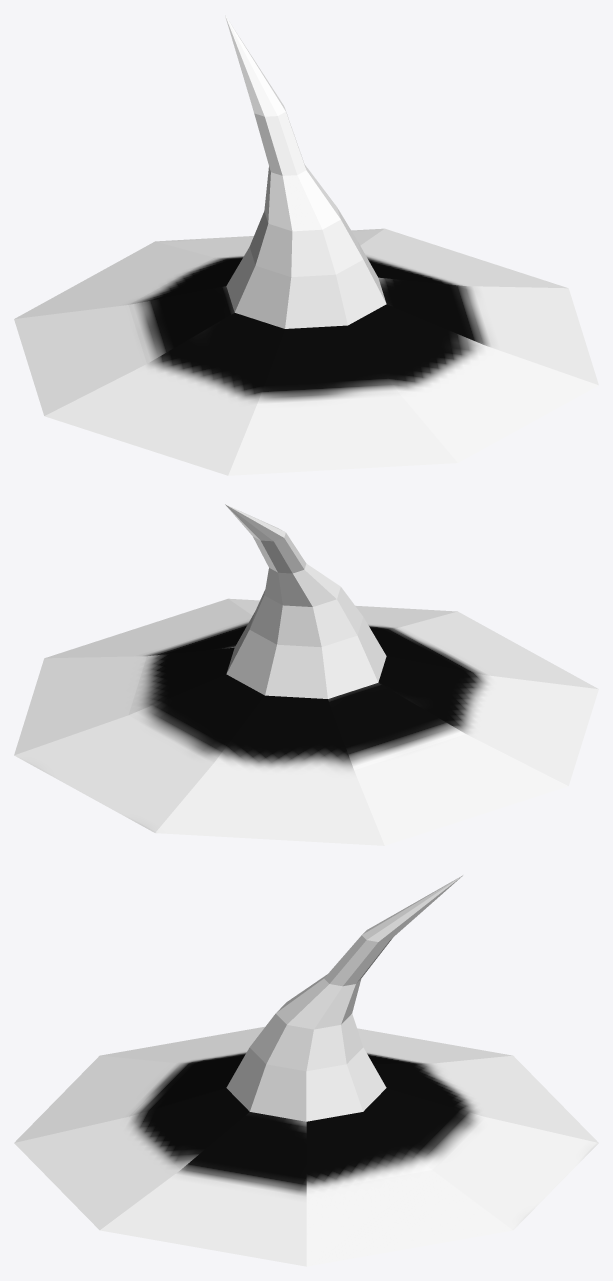
Rendered from Wizard_Hat.glb.
The picture shows the model from 3 angles, top to bottom: view 1: azimuth 30°, elevation 25°; view 2: azimuth 150°, elevation 25°; view 3: azimuth 270°, elevation 25°; orthographic projection. The views are drawn at different scales.
Parts seen in each view (by area): view 1: Cone; view 2: Cone; view 3: Cone.
Part boxes in pixels (box(x1,y1,x2,y2)): Cone: box(14, 15, 598, 475); Cone: box(14, 504, 598, 845); Cone: box(14, 875, 598, 1266).
Bounding box in the file's own units: 10.26 × 5.2 × 10.26.
Materials: 1 (1 with a texture image).
